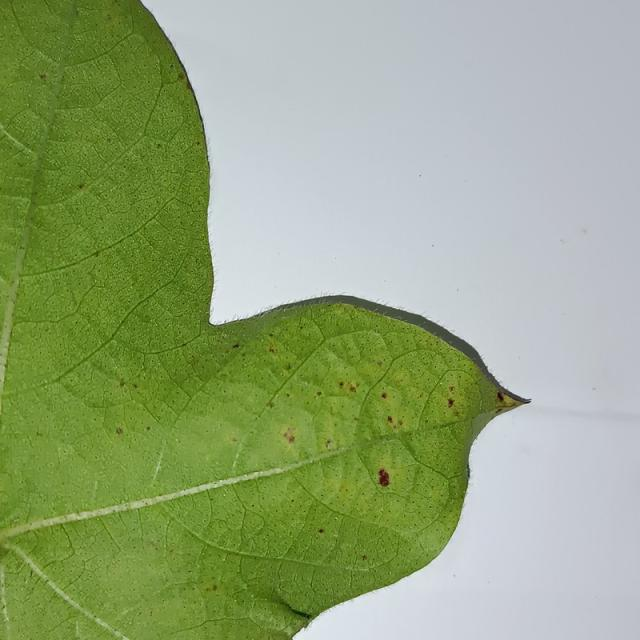Bacterial_Blight: (495, 385, 531, 410), (284, 600, 315, 621), (376, 462, 391, 493), (386, 415, 403, 431), (496, 392, 504, 402), (205, 585, 216, 592), (447, 398, 454, 407), (325, 438, 332, 447), (116, 427, 123, 435), (266, 401, 274, 408), (39, 73, 46, 81), (177, 72, 184, 80), (288, 436, 295, 443), (380, 392, 387, 399), (93, 251, 100, 258), (78, 183, 85, 190), (119, 380, 125, 388), (495, 407, 503, 413), (387, 416, 393, 423), (349, 386, 356, 392), (232, 343, 239, 349), (269, 347, 275, 353), (318, 528, 324, 534), (377, 360, 383, 366), (285, 364, 291, 370), (156, 143, 162, 149), (449, 386, 454, 392), (339, 381, 344, 387), (362, 555, 367, 561), (316, 391, 322, 396), (133, 383, 138, 389), (232, 437, 237, 442), (146, 426, 151, 431), (196, 141, 201, 146), (169, 64, 174, 68), (291, 498, 294, 502)
Cotton: (0, 0, 524, 639)
